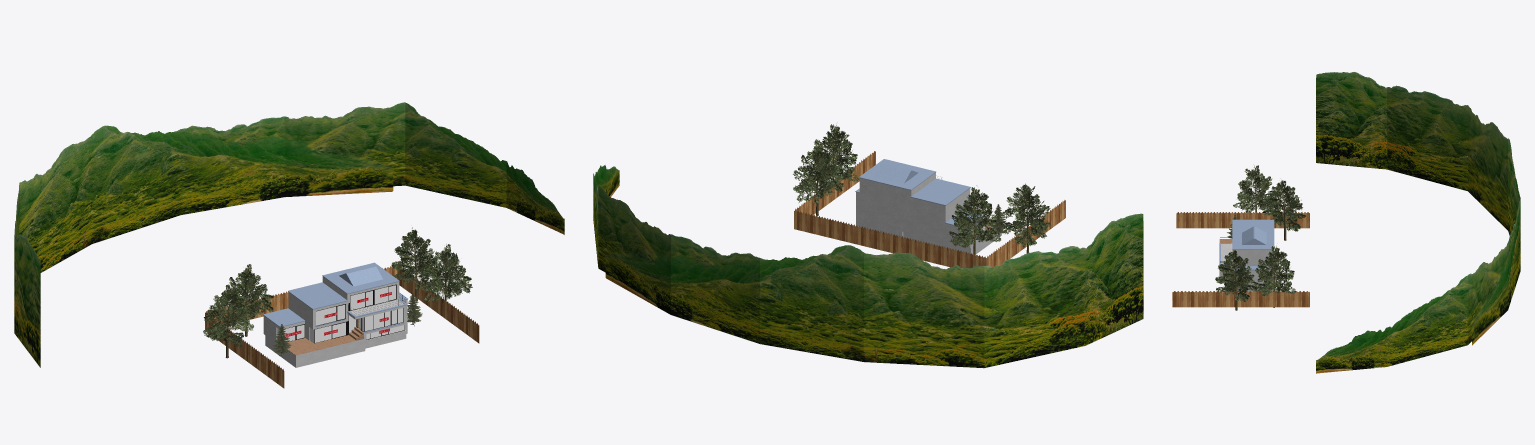
File: house.gltf
3 renders of one model, left to right at view 1: azimuth 30°, elevation 25°; view 2: azimuth 150°, elevation 25°; view 3: azimuth 270°, elevation 25°, orthographic. The views are drawn at different scales.
Visible parts, largest first — view 1: mountains, fence, rooftops, base, windows_glasses, branch.001, branch.003, branch.002, branch, foundation, wooden_inside-outside, windows_bases; view 2: mountains, fence, base_back, rooftops, branch.001, branch, branch.002, branch.003, base, foundation; view 3: mountains, fence, rooftops, branch.002, branch.003, branch, branch.001, base.
Part boxes in pixels (<box>): mountains: <box>14,102,564,367</box>; fence: <box>205,266,479,388</box>; rooftops: <box>263,262,407,333</box>; base: <box>264,277,407,357</box>; windows_glasses: <box>277,285,404,342</box>; branch.001: <box>203,284,253,347</box>; branch.003: <box>421,244,472,303</box>; branch.002: <box>391,229,441,291</box>; branch: <box>224,264,273,323</box>; foundation: <box>265,335,365,367</box>; wooden_inside-outside: <box>287,327,363,355</box>; windows_bases: <box>285,284,404,343</box>; mountains: <box>593,165,1143,368</box>; fence: <box>794,151,1065,268</box>; base_back: <box>859,178,971,247</box>; rooftops: <box>855,159,985,226</box>; branch.001: <box>1000,185,1050,248</box>; branch: <box>949,187,1000,248</box>; branch.002: <box>793,143,844,203</box>; branch.003: <box>809,124,858,182</box>; base: <box>856,173,991,247</box>; foundation: <box>903,232,1001,254</box>; mountains: <box>1316,72,1520,373</box>; fence: <box>1172,212,1309,307</box>; rooftops: <box>1219,219,1274,276</box>; branch.002: <box>1253,246,1295,296</box>; branch.003: <box>1215,250,1257,302</box>; branch: <box>1263,180,1305,231</box>; branch.001: <box>1233,165,1276,212</box>; base: <box>1219,243,1272,292</box>.
Size of what is drawn, in the model's own units: 192 by 83.96 by 131.
